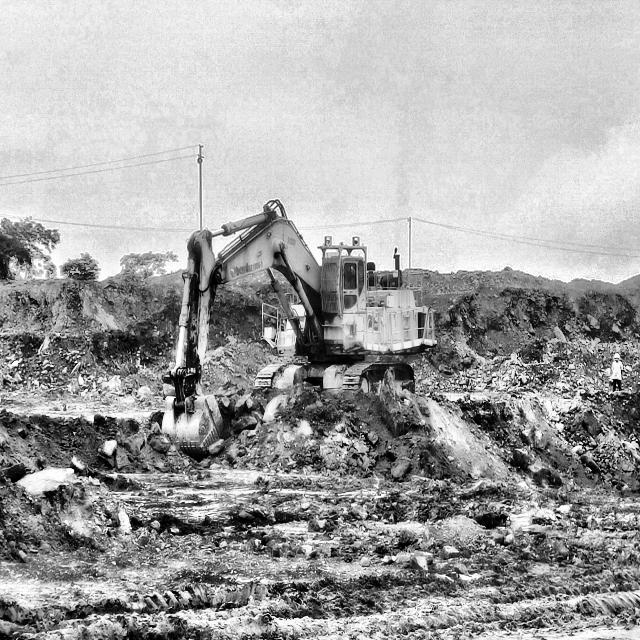excavator: (162, 210, 442, 459)
